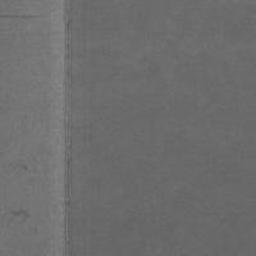Welding line: (63, 0, 73, 256)
